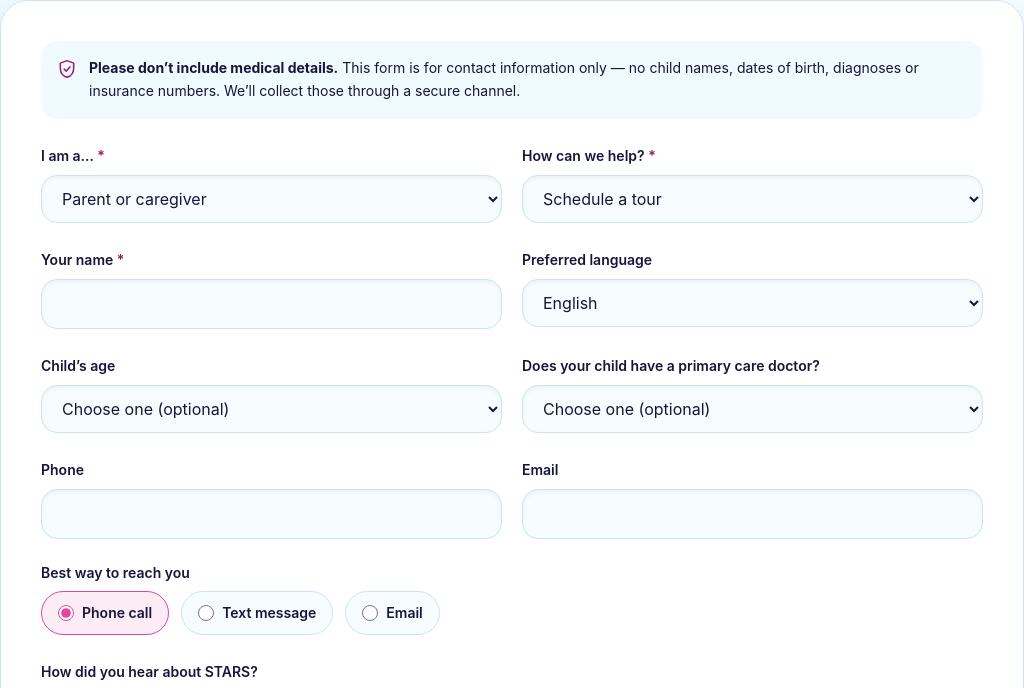
it: <InquiryForm /> › asks for an organization when a physician is selected
Expected: the field labelled "practice, school or organization" is not shown
Select "Physician, NP/PA or clinic staff" in the dropdown labelled "I am a… *": (272, 198) [41, 174, 502, 222]
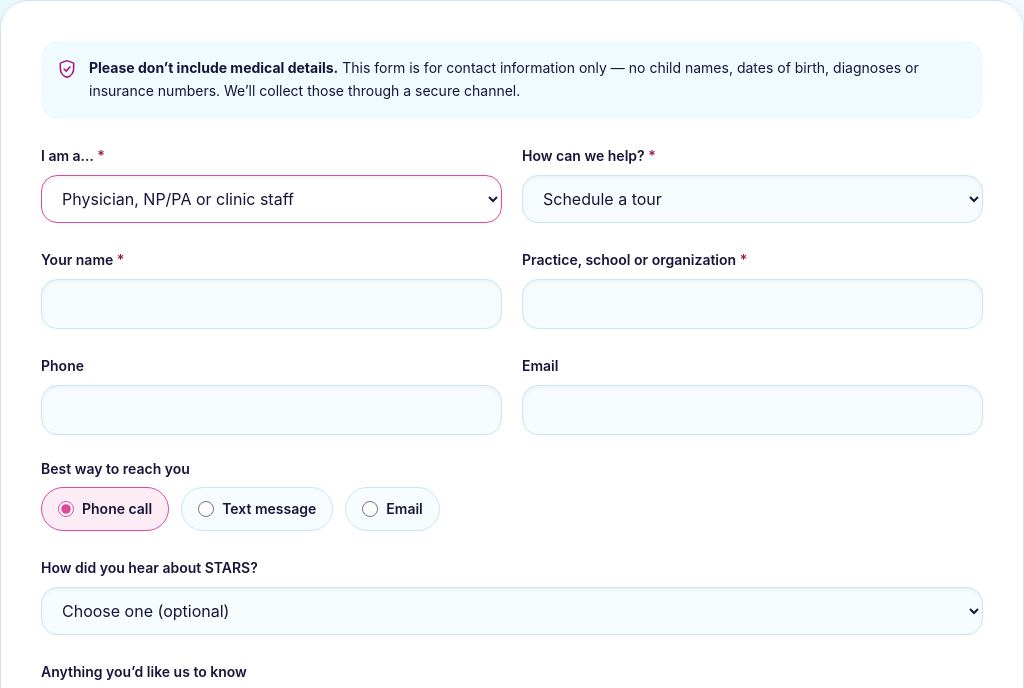
Now the field labelled "Practice, school or organization *" is shown, box [522, 278, 983, 328]
